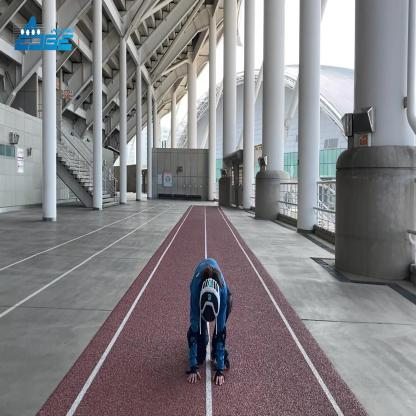Fall_Down: (186, 258, 233, 387)
